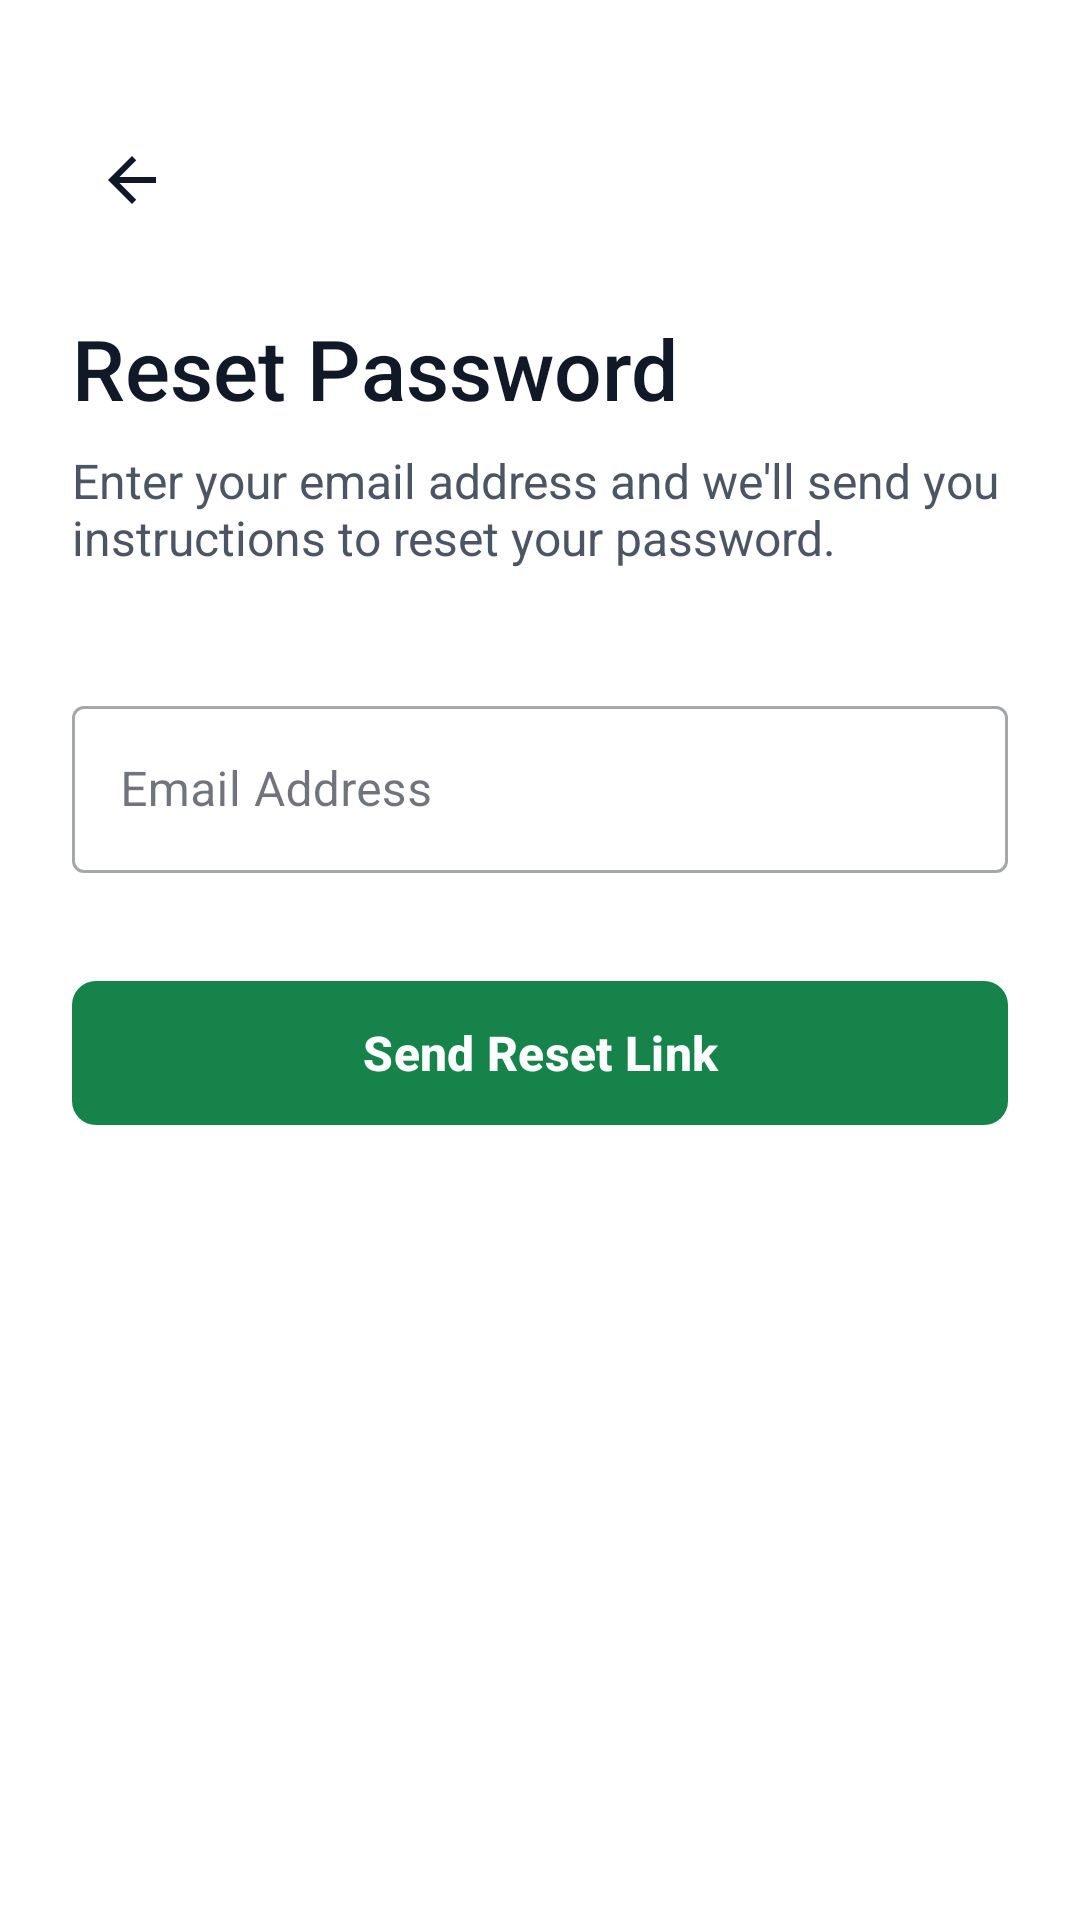

Icon click points for this 1080 x 1920 phone screenshot, format point (x, y):
Go back: point (132, 180)
